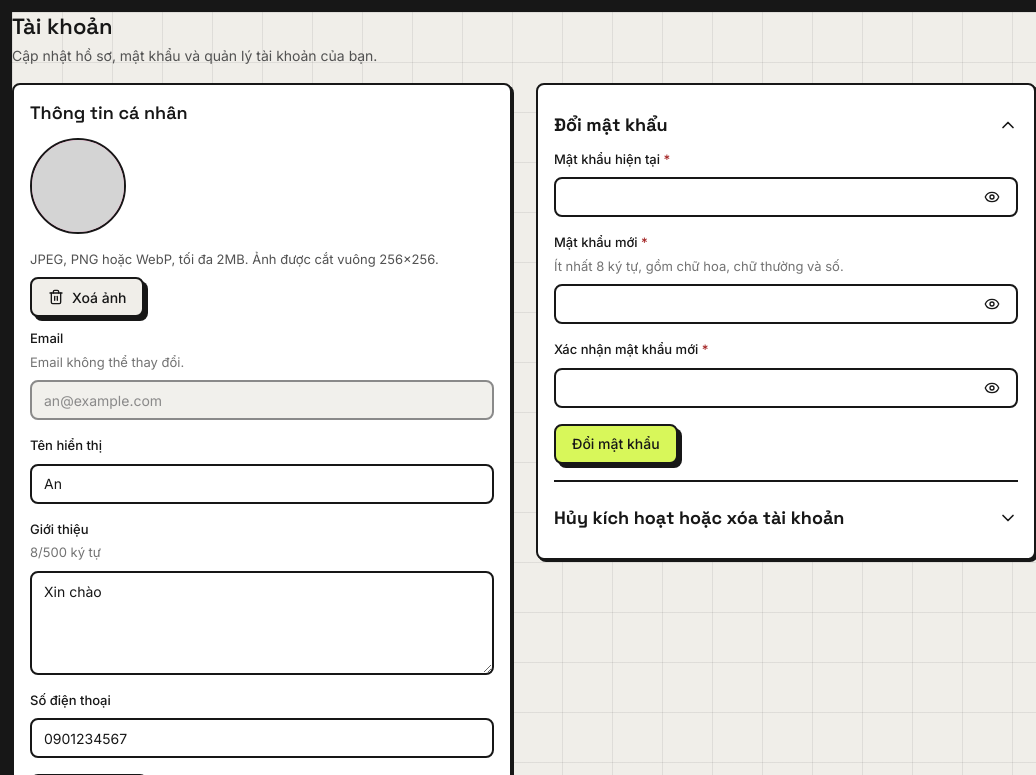
Test: avatar › removes an existing picture
What coordinates should you click on to do the following:
click the button "Xoá ảnh"
I would click on:
 (87, 297)
Its box is left=30, top=277, right=144, bottom=317.
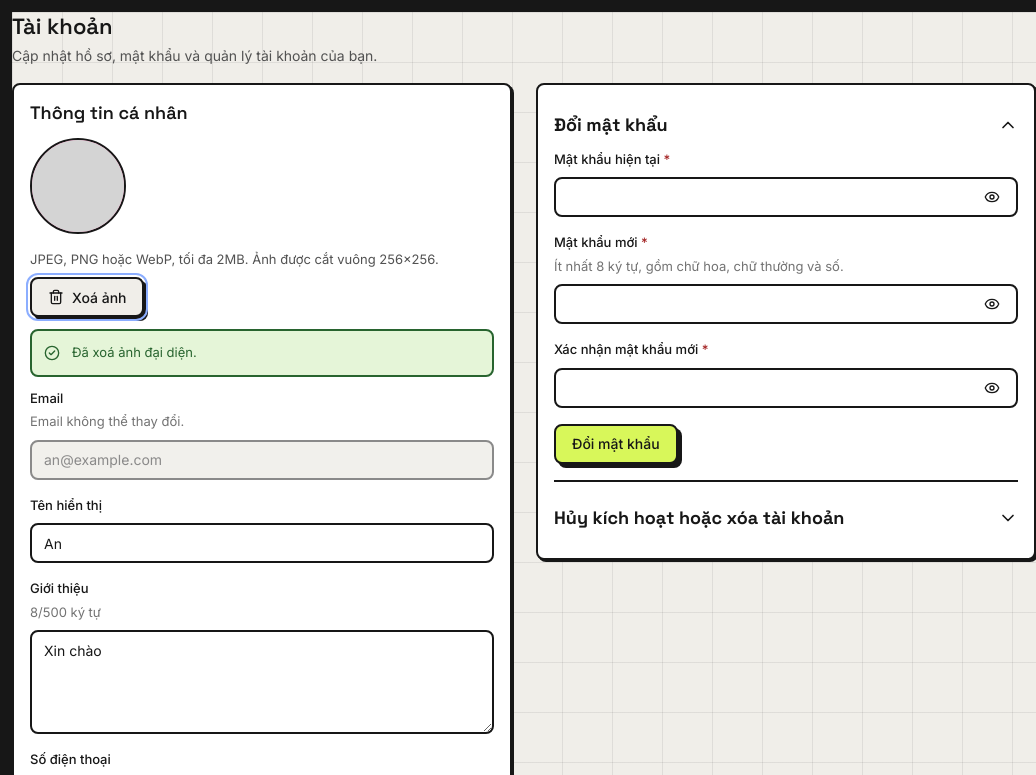
Expected: the text "Đã xoá ảnh đại diện." is shown, left=72, top=344, right=197, bottom=360
